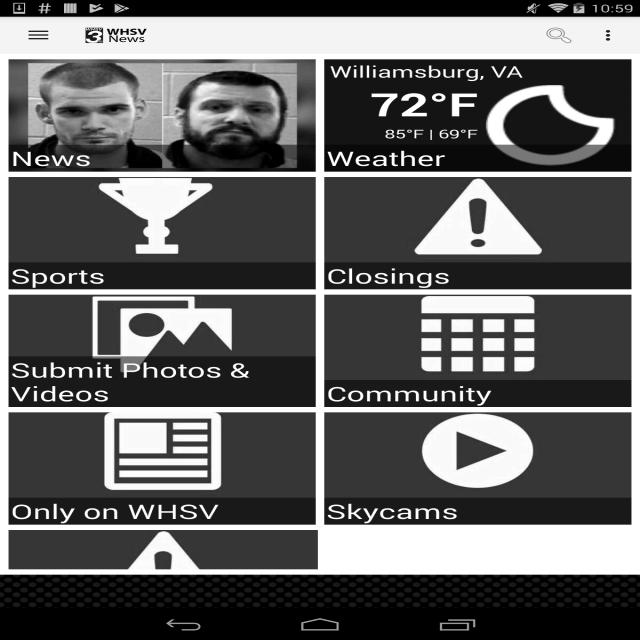ImageButton: (9, 17, 68, 54)
ImageView: (8, 59, 316, 172), (8, 412, 316, 525), (324, 412, 632, 525), (8, 177, 316, 289), (324, 177, 632, 289), (8, 295, 316, 407), (324, 295, 632, 407), (8, 530, 318, 640), (478, 82, 626, 170), (589, 19, 631, 52), (85, 28, 147, 44)
TextView: (8, 356, 316, 407), (329, 82, 478, 126), (330, 61, 626, 82), (9, 498, 219, 524), (324, 380, 492, 407), (324, 262, 450, 290), (324, 498, 458, 524), (324, 144, 446, 172), (9, 262, 105, 290), (329, 125, 478, 142), (9, 144, 91, 172), (529, 19, 589, 52)
